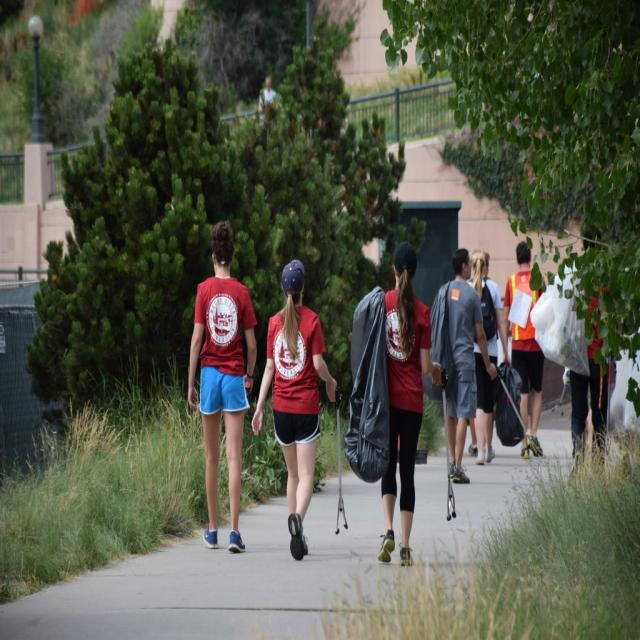body: (248, 255, 341, 563), (184, 218, 260, 558), (378, 240, 444, 569), (430, 245, 501, 488), (560, 225, 617, 468), (464, 248, 515, 466), (501, 239, 547, 459), (466, 249, 504, 464), (602, 313, 638, 448), (252, 72, 282, 126)
